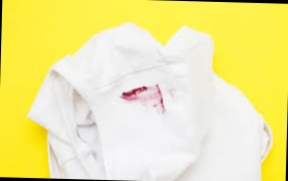lipstick: (119, 81, 166, 115)
